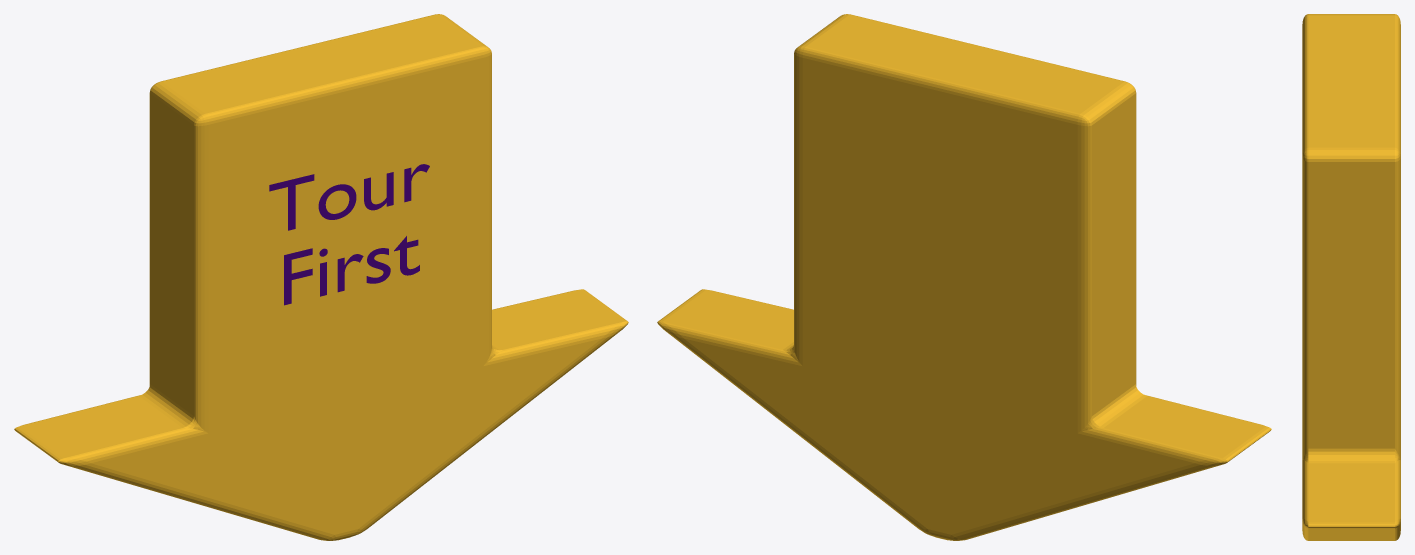
Rendered from first_fleche.fbx.
3 views of the same model, side by side, from view 1: azimuth 30°, elevation 25°; view 2: azimuth 150°, elevation 25°; view 3: azimuth 270°, elevation 25° (orthographic).
Visible parts, largest first — view 1: Plane.002, Text.001; view 2: Plane.002; view 3: Plane.002.
Boxes of the visible parts, <box> form: Plane.002: <box>14,14,628,540</box>; Text.001: <box>269,164,429,305</box>; Plane.002: <box>657,14,1271,540</box>; Plane.002: <box>1302,14,1400,540</box>.
Size of the model in its own units: 842 by 647 by 131.
